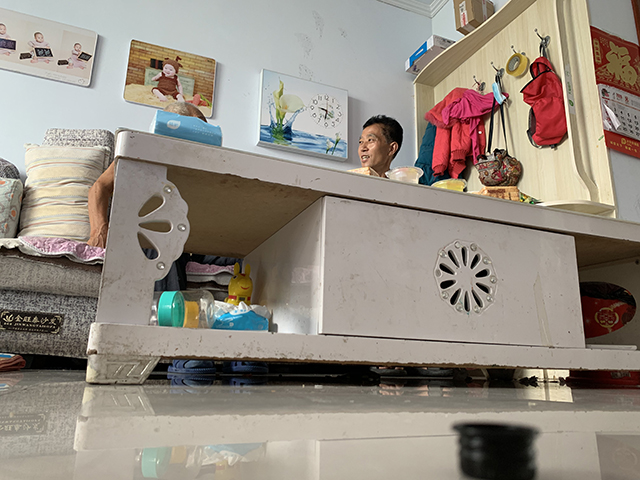table: (84, 126, 640, 385)
